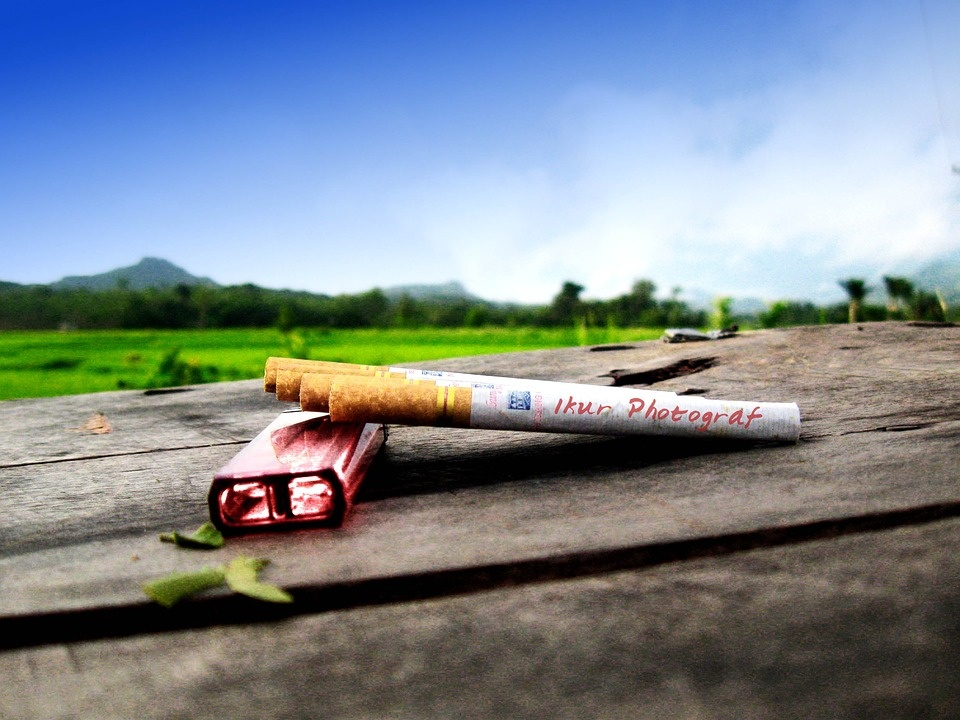sigaretta: (253, 353, 810, 435)
